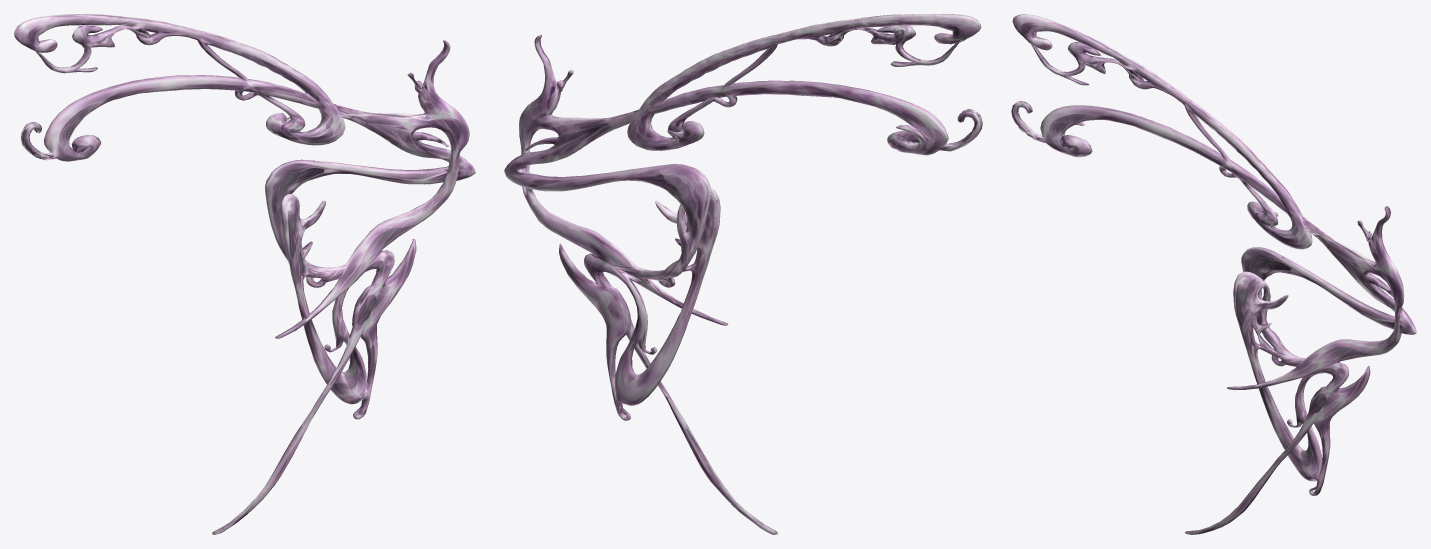
File: reach-intro.glb
3 views of the same model, side by side, from view 1: azimuth 30°, elevation 25°; view 2: azimuth 150°, elevation 25°; view 3: azimuth 330°, elevation 25° (orthographic). The views are drawn at different scales.
Parts seen in each view (by area): view 1: tripo_node_459e80d5-de84-4231-8570-c1612d61c555; view 2: tripo_node_459e80d5-de84-4231-8570-c1612d61c555; view 3: tripo_node_459e80d5-de84-4231-8570-c1612d61c555.
Boxes of the visible parts, x1=… form: tripo_node_459e80d5-de84-4231-8570-c1612d61c555: x1=14, y1=14, x2=475, y2=534; tripo_node_459e80d5-de84-4231-8570-c1612d61c555: x1=504, y1=14, x2=982, y2=534; tripo_node_459e80d5-de84-4231-8570-c1612d61c555: x1=1011, y1=14, x2=1416, y2=534.
Size of the model in its own units: 0.8532 by 0.9792 by 0.0724.
1 material, 1 textured.
